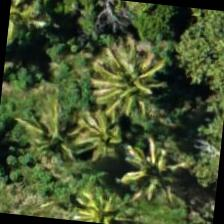Kelapa_Sawit: (112, 115, 210, 214), (48, 91, 146, 190), (68, 13, 166, 112), (56, 165, 152, 223)
